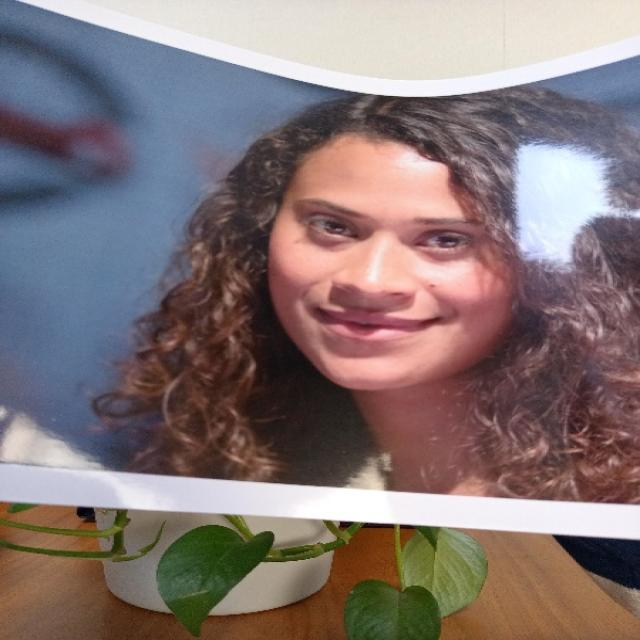photo: (3, 0, 640, 554)
